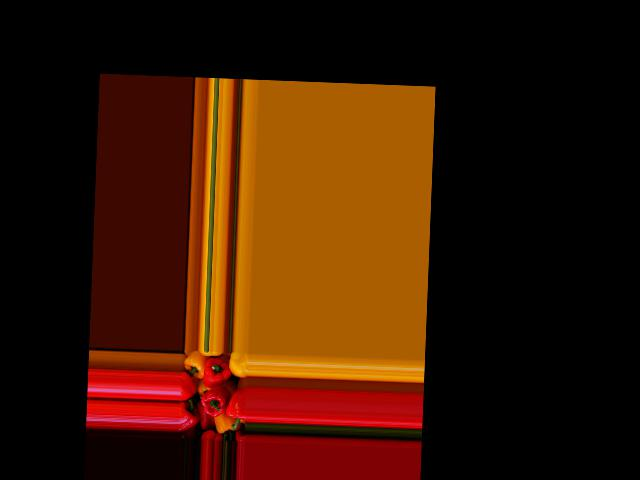bell_pepper: (185, 350, 208, 376)
